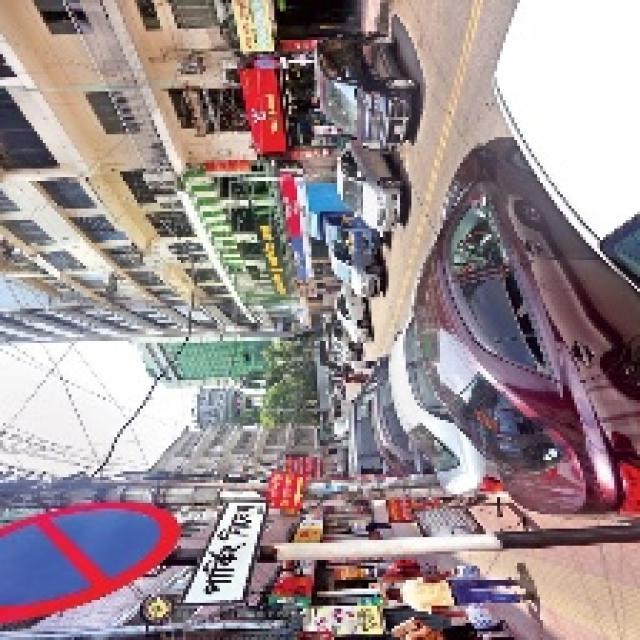car: (385, 183, 602, 530), (311, 31, 408, 151), (325, 151, 407, 235), (318, 243, 387, 298), (329, 288, 377, 339)
